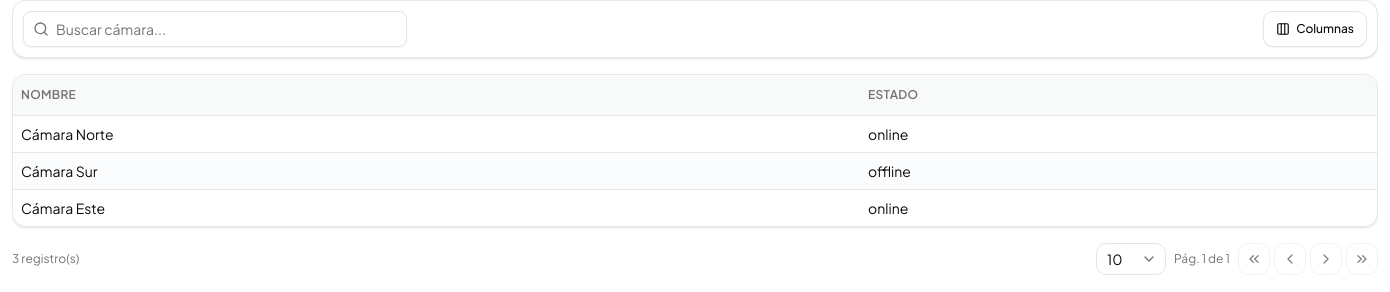
Test: DataTable › filters rows when using search
Type "Norte" into the field with placeholder "Buscar cámara..." at (215,29), box [23,11,407,47]
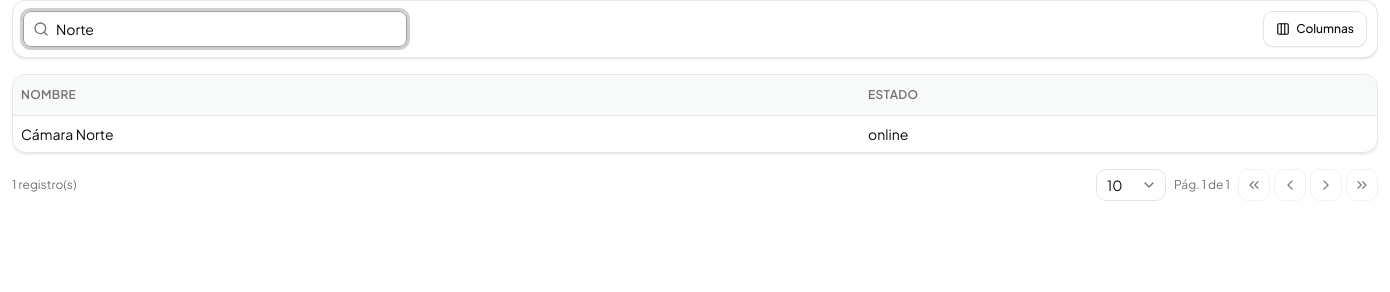
expect the text "Cámara Norte" is shown: met, box [13,115,860,152]
expect the text "Cámara Sur" is gone: met
